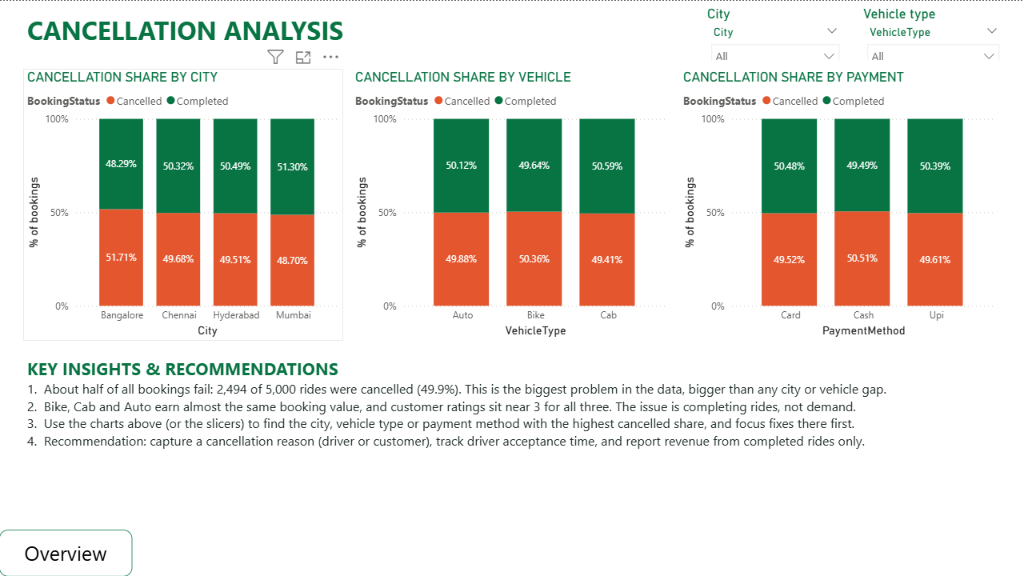

The dashboard page shown, as its layout file describes it:
{"tool":"powerbi","page":{"name":"CANCELLATION ANALYSIS","canvas":[1280,720],"ordinal":1},"visuals":[{"type":"textbox","box":[30,10,800,60],"z":0},{"type":"slicer","title":"City","fields":{"Values":["rapido_ride_db bookings.City"]},"box":[880,6,180,68],"z":1000},{"type":"slicer","title":"Vehicle type","fields":{"Values":["rapido_ride_db bookings.VehicleType"]},"box":[1075,6,185,68],"z":2000},{"type":"hundredPercentStackedColumnChart","title":"CANCELLATION SHARE BY CITY","fields":{"Category":["rapido_ride_db bookings.City"],"Series":["rapido_ride_db bookings.BookingStatus"],"Y":["CountNonNull(rapido_ride_db bookings.BookingID)"]},"box":[30,85,400,340],"z":3000},{"type":"hundredPercentStackedColumnChart","title":"CANCELLATION SHARE BY VEHICLE","fields":{"Category":["rapido_ride_db bookings.VehicleType"],"Series":["rapido_ride_db bookings.BookingStatus"],"Y":["CountNonNull(rapido_ride_db bookings.BookingID)"]},"box":[440,85,400,340],"z":4000},{"type":"hundredPercentStackedColumnChart","title":"CANCELLATION SHARE BY PAYMENT","fields":{"Category":["rapido_ride_db bookings.PaymentMethod"],"Series":["rapido_ride_db bookings.BookingStatus"],"Y":["CountNonNull(rapido_ride_db bookings.BookingID)"]},"box":[850,85,400,340],"z":5000},{"type":"textbox","box":[30,440,1220,260],"z":6000},{"type":"actionButton","box":[0,661.7,166.7,58.3],"z":7000}]}

Visuals, with their boxes in screenshot pixels (x1, y1, x2, y2), scaled from the page's 1280x720 canvas onto the 1023x576 screenshot:
textbox: pyautogui.locateOnScreen(24, 8, 663, 56)
"City" slicer: pyautogui.locateOnScreen(703, 5, 847, 59)
"Vehicle type" slicer: pyautogui.locateOnScreen(859, 5, 1007, 59)
"CANCELLATION SHARE BY CITY" hundredPercentStackedColumnChart: pyautogui.locateOnScreen(24, 68, 344, 340)
"CANCELLATION SHARE BY VEHICLE" hundredPercentStackedColumnChart: pyautogui.locateOnScreen(352, 68, 671, 340)
"CANCELLATION SHARE BY PAYMENT" hundredPercentStackedColumnChart: pyautogui.locateOnScreen(679, 68, 999, 340)
textbox: pyautogui.locateOnScreen(24, 352, 999, 560)
actionButton: pyautogui.locateOnScreen(0, 529, 133, 575)
